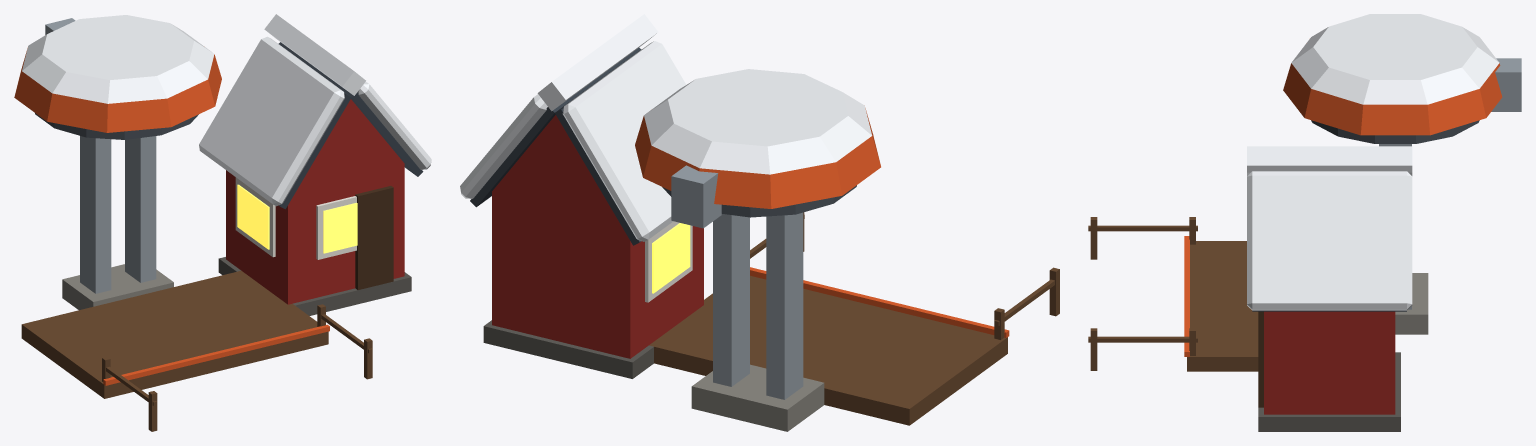
File: lift-terminal-bottom.glb
3 views of the same model, side by side, from view 1: azimuth 30°, elevation 25°; view 2: azimuth 150°, elevation 25°; view 3: azimuth 270°, elevation 25° (orthographic). The views are drawn at different scales.
Visible parts, largest first — view 1: lift-terminal-bottom; view 2: lift-terminal-bottom; view 3: lift-terminal-bottom.
Part boxes in pixels (left/top/right/bottom): lift-terminal-bottom: left=14, top=14, right=431, bottom=431; lift-terminal-bottom: left=460, top=14, right=1059, bottom=431; lift-terminal-bottom: left=1088, top=14, right=1521, bottom=431.
Size of the model in its own units: 7.98 by 5.37 by 7.9.
